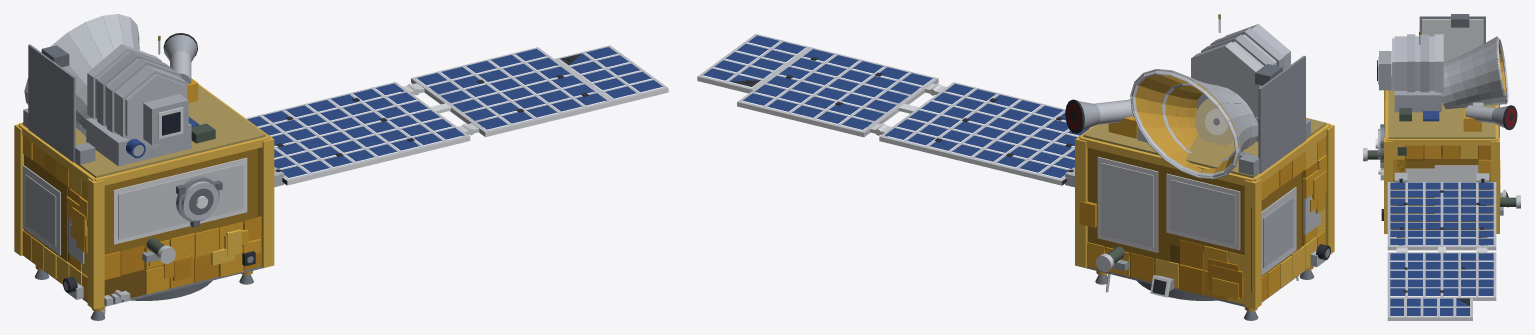
Rendered from microcarb.glb.
3 views of the same model, side by side, from view 1: azimuth 30°, elevation 25°; view 2: azimuth 150°, elevation 25°; view 3: azimuth 270°, elevation 25° (orthographic). The views are drawn at different scales.
Parts seen in each view (by area): view 1: foil, body, solar-panel; view 2: body, foil, solar-panel; view 3: body, foil, solar-panel.
Part boxes in pixels (box(x1,y1,x2,y2)): foil: box(14, 14, 274, 311); body: box(22, 33, 668, 320); solar-panel: box(162, 47, 662, 177); body: box(697, 14, 1330, 320); foil: box(1075, 24, 1334, 311); solar-panel: box(703, 35, 1089, 178); body: box(1363, 14, 1520, 320); foil: box(1379, 34, 1507, 237); solar-panel: box(1377, 60, 1493, 315).
Bounding box in the file's own units: 2.73 × 1.16 × 0.8699.
